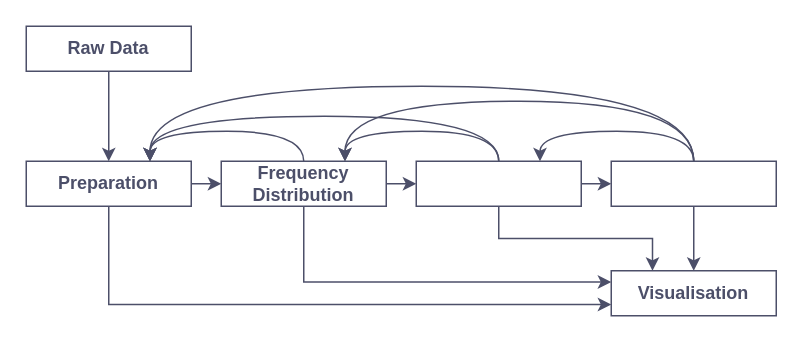
This 803x344 diagram has some shape labels left out. Here are the shapes that lost their labels. From the top down, the centre of each, then its label:
At point 498,183: "Tranformation".
At point 693,183: "Classification".
